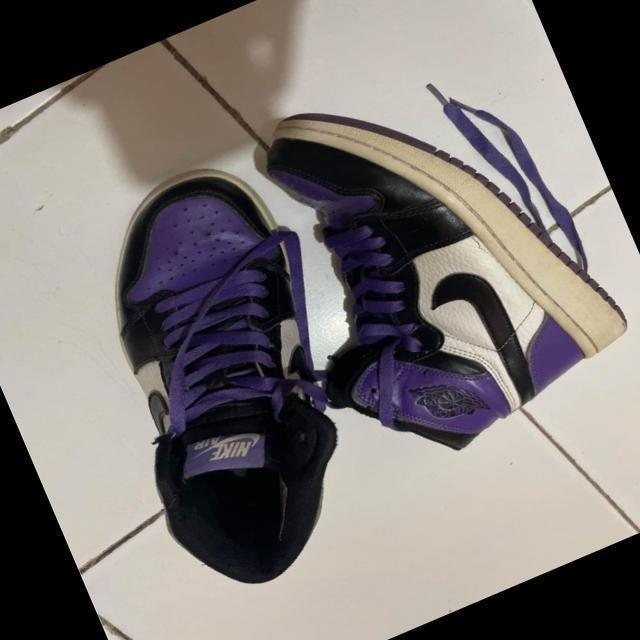nike fake jordan 1: (34, 151, 403, 612)
nike original jordan 1: (258, 126, 640, 490)
